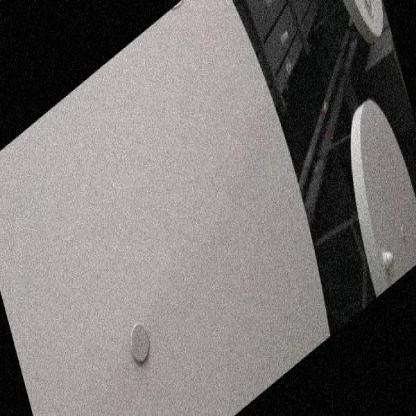light_off: (344, 0, 384, 38)
